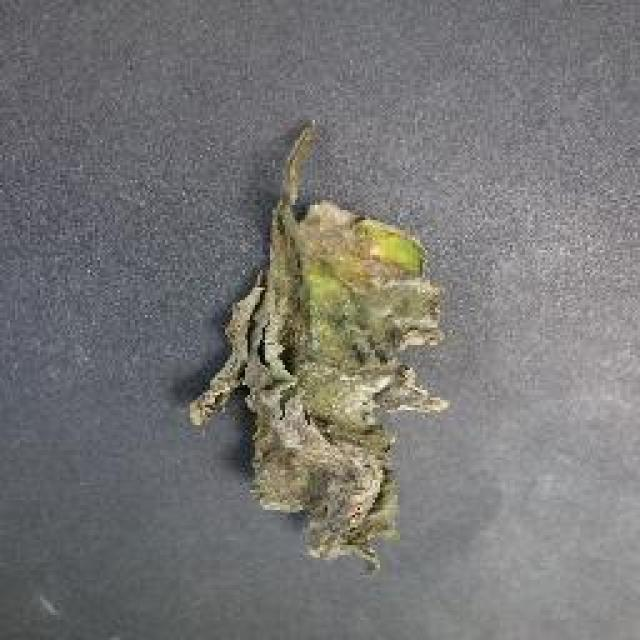Tomato___Late_blight: (185, 122, 448, 572)
